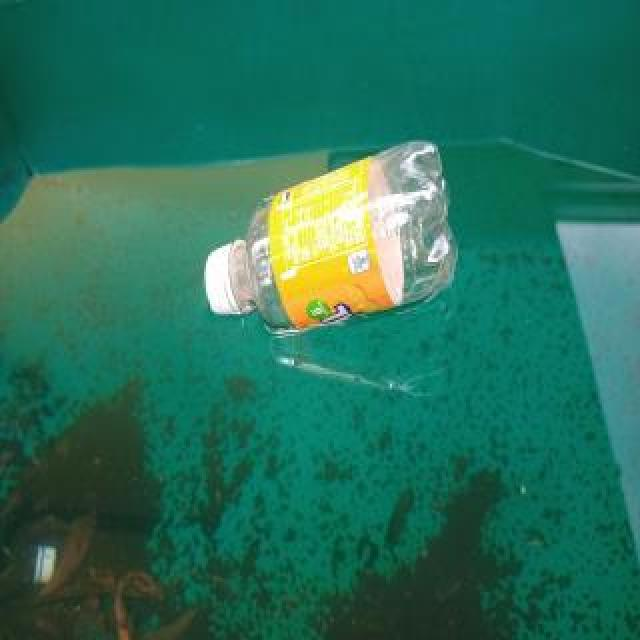bottle: (204, 133, 462, 339)
